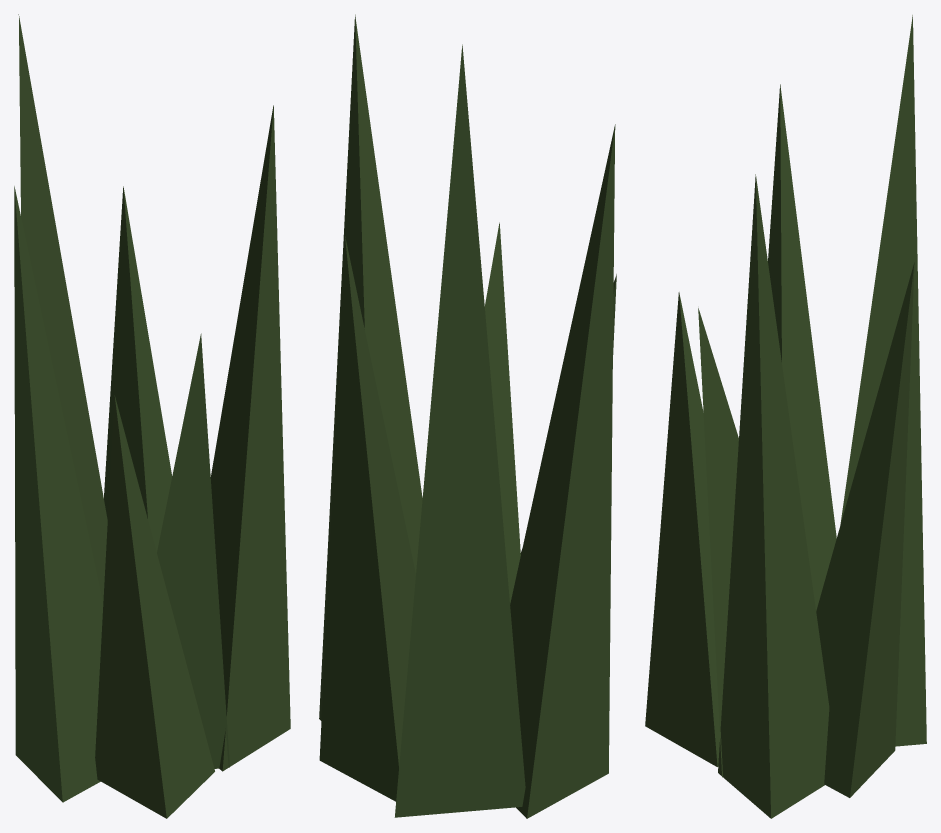
File: Grass 2.fbx
3 views of the same model, side by side, from view 1: azimuth 30°, elevation 25°; view 2: azimuth 150°, elevation 25°; view 3: azimuth 270°, elevation 25° (orthographic). The views are drawn at different scales.
Parts seen in each view (by area): view 1: Grass 2; view 2: Grass 2; view 3: Grass 2.
Boxes of the visible parts, x1,y1,x2,y2 form: Grass 2: (14,14,290,818); Grass 2: (319,14,616,818); Grass 2: (645,15,926,818).
Size of the model in its own units: 21.51 by 19.41 by 53.93.
